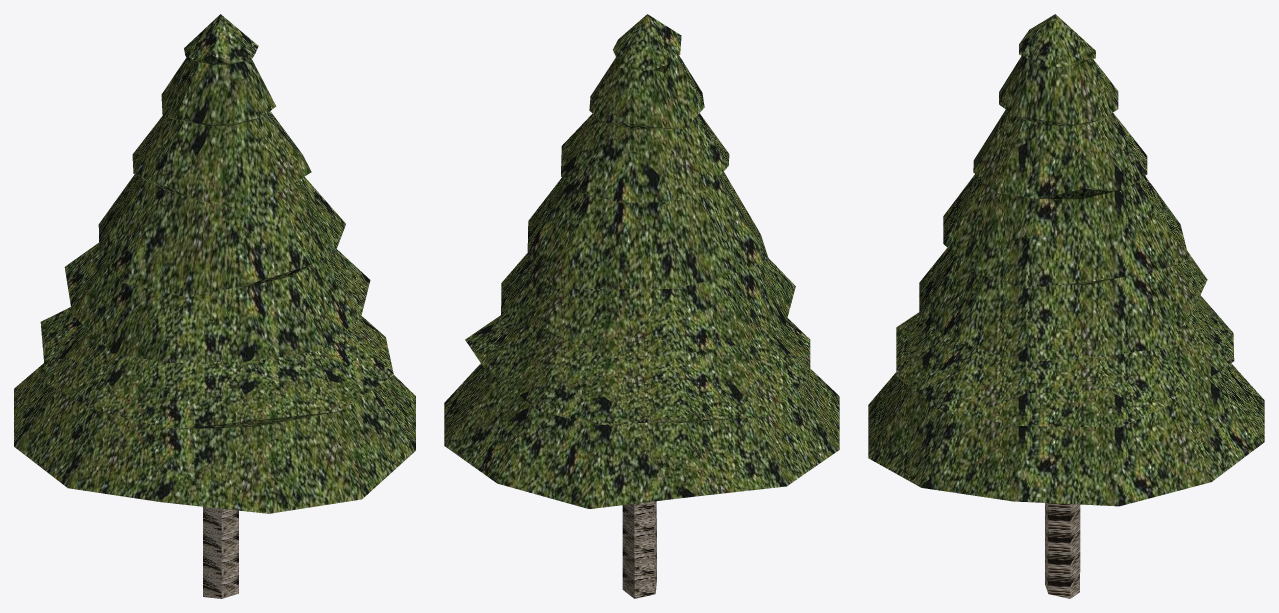
File: pineTree.obj
3 renders of one model, left to right at view 1: azimuth 30°, elevation 25°; view 2: azimuth 150°, elevation 25°; view 3: azimuth 270°, elevation 25°, orthographic.
Size of the model in its own units: 6.98 by 11.22 by 6.98.
2 materials, 2 textured.
